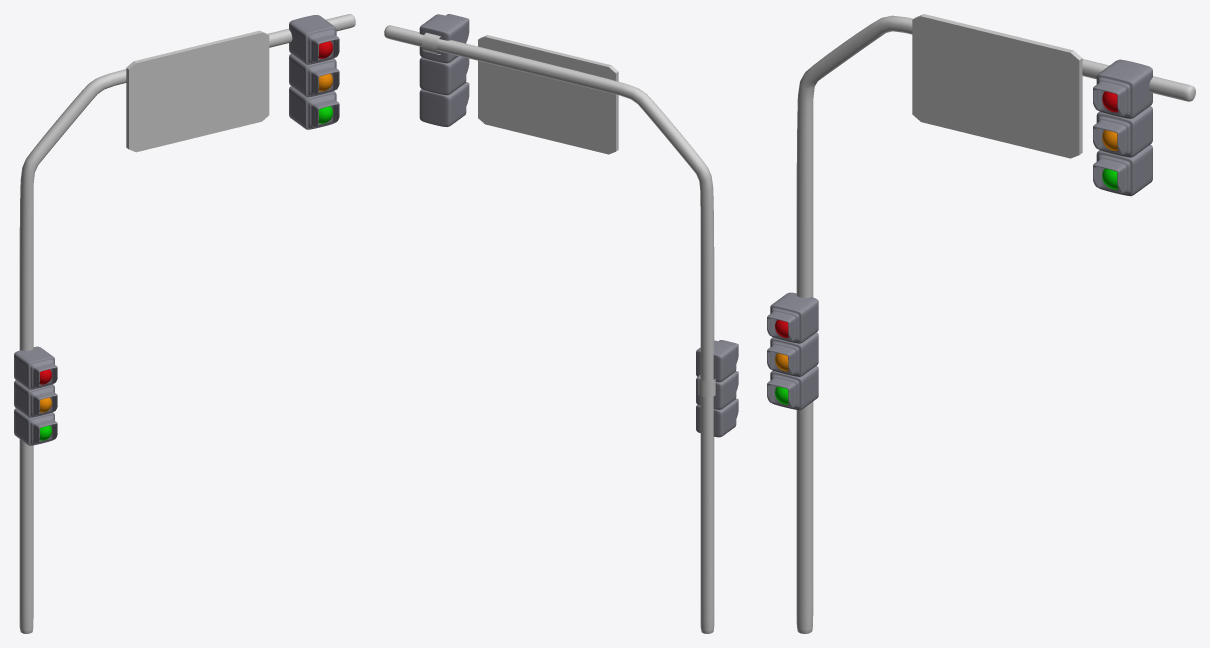
The model's file is traffic light.fbx.
3 views of the same model, side by side, from view 1: azimuth 30°, elevation 25°; view 2: azimuth 150°, elevation 25°; view 3: azimuth 330°, elevation 25° (orthographic). The views are drawn at different scales.
Visible parts, largest first — view 1: Cube.003, Cube, Cube.001, Cube.002; view 2: Cube, Cube.003, Cube.001, Cube.002; view 3: Cube.003, Cube, Cube.001, Cube.002.
Part boxes in pixels (left/top/right/bottom): Cube.003: left=126, top=30, right=269, bottom=152; Cube: left=19, top=14, right=355, bottom=633; Cube.001: left=289, top=15, right=339, bottom=129; Cube.002: left=14, top=346, right=57, bottom=445; Cube: left=384, top=25, right=715, bottom=633; Cube.003: left=478, top=35, right=618, bottom=154; Cube.001: left=419, top=14, right=469, bottom=126; Cube.002: left=696, top=340, right=738, bottom=437; Cube.003: left=912, top=14, right=1082, bottom=158; Cube: left=796, top=15, right=1195, bottom=633; Cube.001: left=1093, top=59, right=1152, bottom=196; Cube.002: left=767, top=292, right=818, bottom=410.
Bounding box in the file's own units: 510 × 782 × 77.64.
